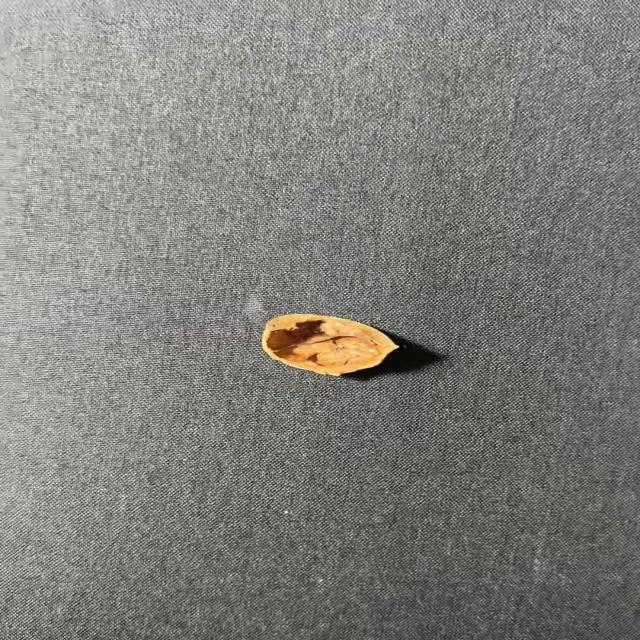nuts-bad0.25: (263, 314, 398, 376)
